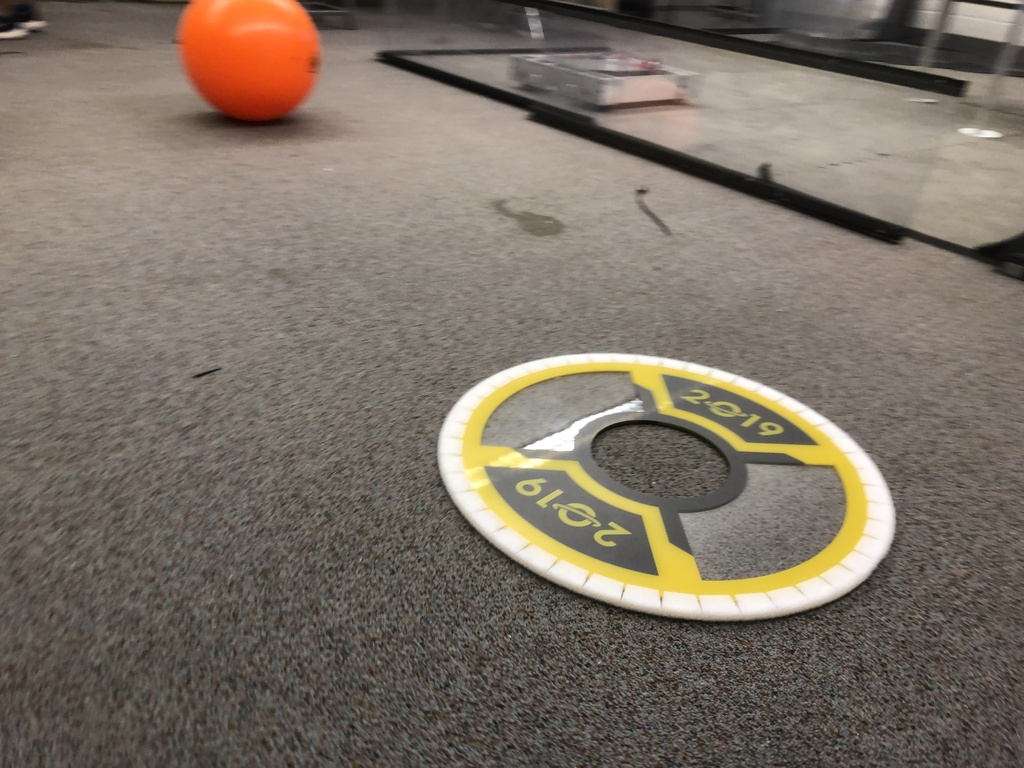hatch_panel: (426, 338, 915, 640)
